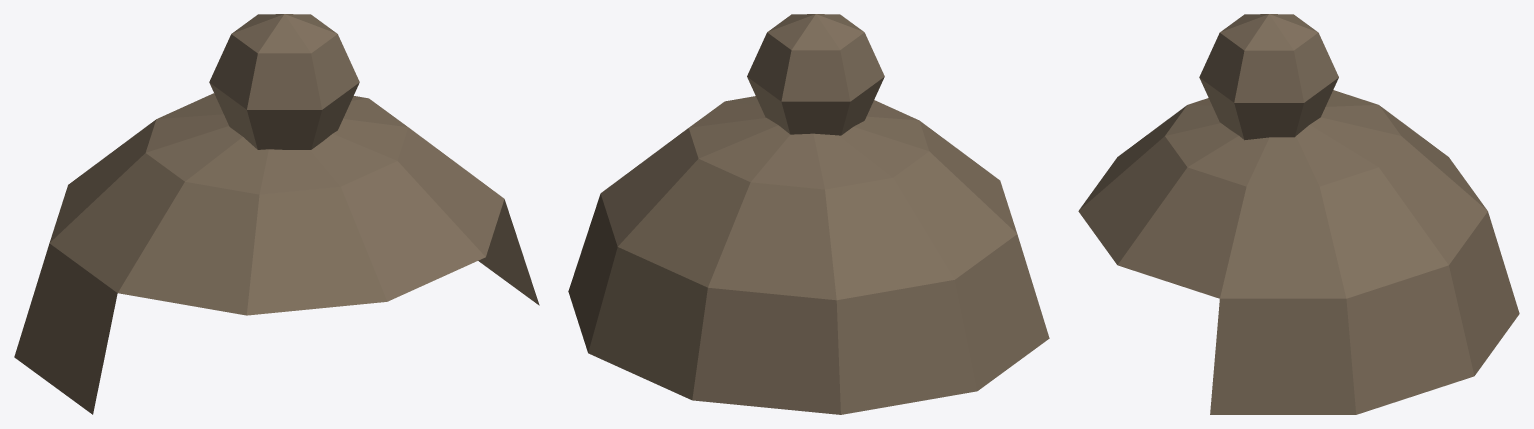
Rendered from topknot.glb.
3 views of the same model, side by side, from view 1: azimuth 30°, elevation 25°; view 2: azimuth 150°, elevation 25°; view 3: azimuth 270°, elevation 25° (orthographic). The views are drawn at different scales.
Visible parts, largest first — view 1: cap, knot; view 2: cap, knot; view 3: cap, knot.
Part boxes in pixels (bbox=[...]): cap: bbox=[14, 93, 539, 414]; knot: bbox=[209, 14, 359, 149]; cap: bbox=[568, 96, 1049, 414]; knot: bbox=[747, 14, 884, 135]; cap: bbox=[1078, 90, 1519, 414]; knot: bbox=[1199, 14, 1338, 140].
Bounding box in the file's own units: 0.5136 × 0.355 × 0.4736.
